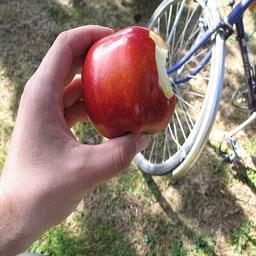apple: (79, 27, 176, 138)
